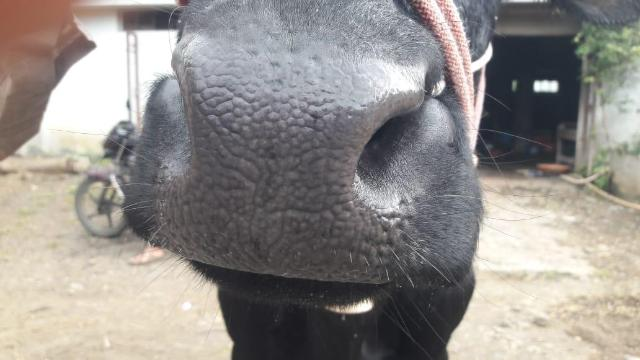Muzzle: (168, 40, 404, 272)
